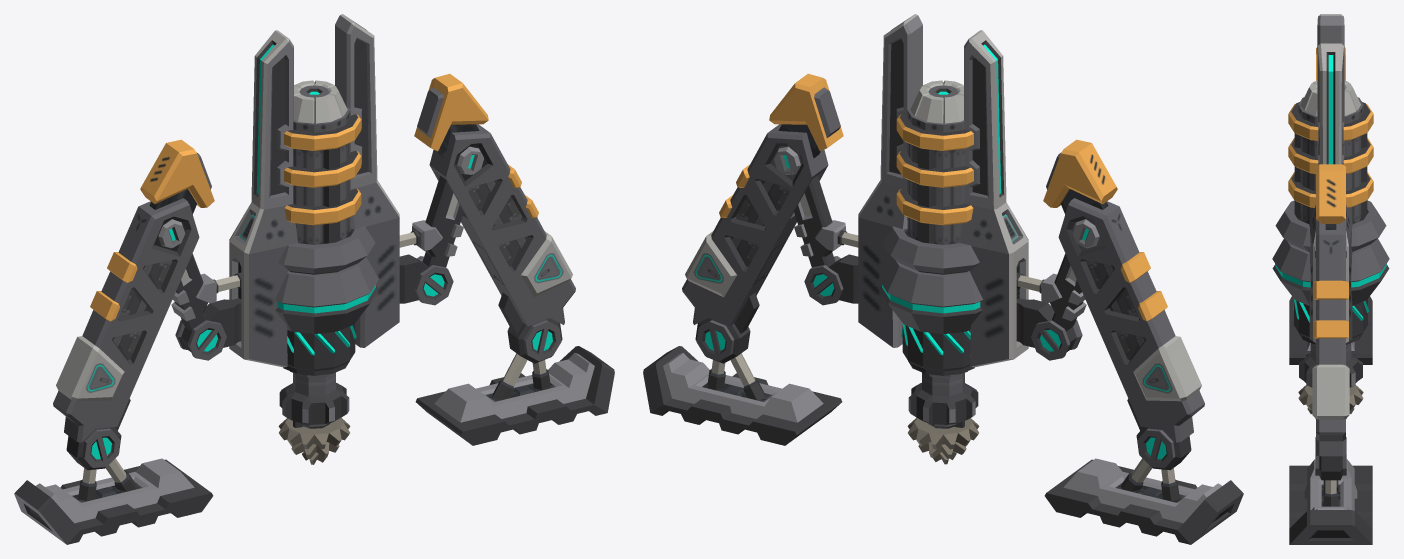
Rendered from worlds_SM_Prop_Drill_04.gltf.
3 views of the same model, side by side, from view 1: azimuth 30°, elevation 25°; view 2: azimuth 150°, elevation 25°; view 3: azimuth 270°, elevation 25° (orthographic). The views are drawn at different scales.
Visible parts, largest first — view 1: SM_Prop_Drill_04, SM_Prop_Drill_04_Leg_02, SM_Prop_Drill_04_Leg_01, SM_Prop_Drill_04_Extension_01, SM_Prop_Drill_04_Drill_Head_01; view 2: SM_Prop_Drill_04, SM_Prop_Drill_04_Leg_02, SM_Prop_Drill_04_Leg_01, SM_Prop_Drill_04_Extension_01, SM_Prop_Drill_04_Drill_Head_01; view 3: SM_Prop_Drill_04, SM_Prop_Drill_04_Leg_02, SM_Prop_Drill_04_Leg_01, SM_Prop_Drill_04_Extension_01, SM_Prop_Drill_04_Drill_Head_01.
Part boxes in pixels (box(x1,y1,x2,y2)): SM_Prop_Drill_04: box(53, 14, 575, 470); SM_Prop_Drill_04_Leg_02: box(415, 346, 614, 445); SM_Prop_Drill_04_Leg_01: box(14, 458, 213, 544); SM_Prop_Drill_04_Extension_01: box(279, 371, 349, 428); SM_Prop_Drill_04_Drill_Head_01: box(278, 417, 350, 464); SM_Prop_Drill_04: box(682, 14, 1204, 470); SM_Prop_Drill_04_Leg_02: box(643, 346, 842, 445); SM_Prop_Drill_04_Leg_01: box(1044, 458, 1243, 544); SM_Prop_Drill_04_Extension_01: box(908, 371, 978, 428); SM_Prop_Drill_04_Drill_Head_01: box(907, 417, 979, 464); SM_Prop_Drill_04: box(1272, 14, 1389, 480); SM_Prop_Drill_04_Leg_02: box(1289, 459, 1372, 544); SM_Prop_Drill_04_Leg_01: box(1289, 296, 1372, 364); SM_Prop_Drill_04_Extension_01: box(1299, 343, 1362, 387); SM_Prop_Drill_04_Drill_Head_01: box(1298, 385, 1363, 418).
Bounding box in the file's own units: 14.5 × 10.47 × 2.82.
1 material, 1 textured.
